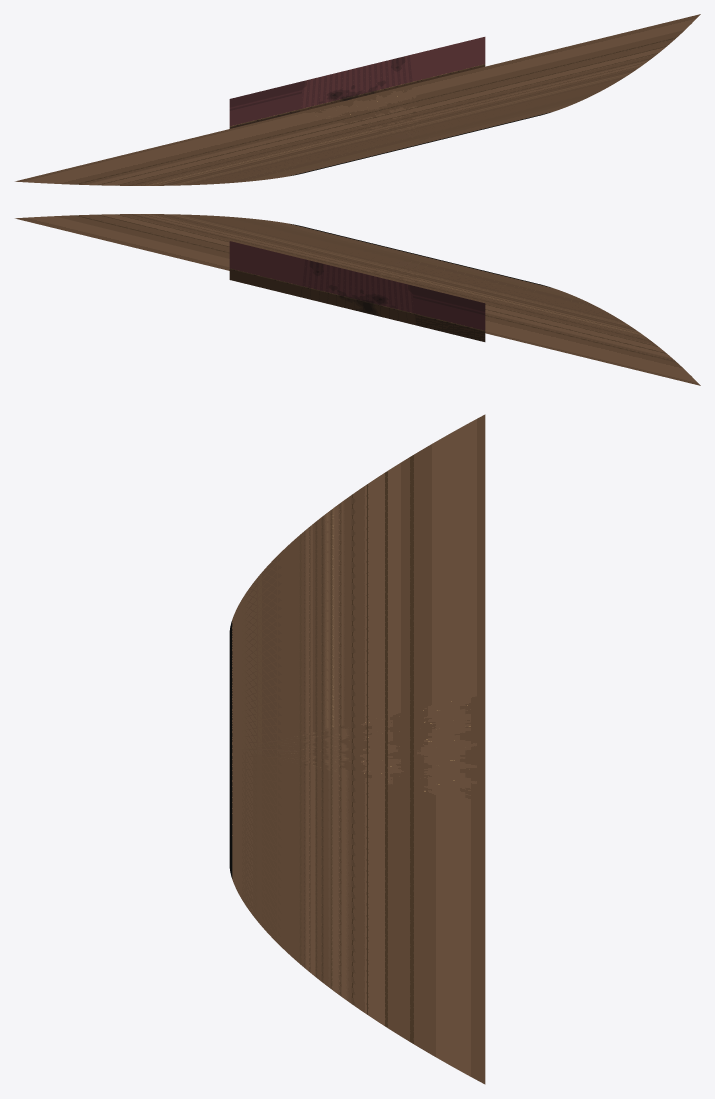
Rendered from bg_mansion.glb.
3 views of the same model, one above another, from view 1: azimuth 30°, elevation 25°; view 2: azimuth 150°, elevation 25°; view 3: azimuth 270°, elevation 25° (orthographic). The views are drawn at different scales.
Parts seen in each view (by area): view 1: mansion_floor, mansion_wall; view 2: mansion_floor, mansion_wall; view 3: mansion_floor.
Part boxes in pixels (left/top/right/bottom): mansion_floor: left=15, top=14, right=700, bottom=185; mansion_wall: left=229, top=37, right=485, bottom=128; mansion_floor: left=15, top=214, right=700, bottom=385; mansion_wall: left=229, top=241, right=485, bottom=341; mansion_floor: left=229, top=414, right=485, bottom=1084.
Bounding box in the file's own units: 80 × 4.34 × 12.9.
2 materials, 2 textured.
